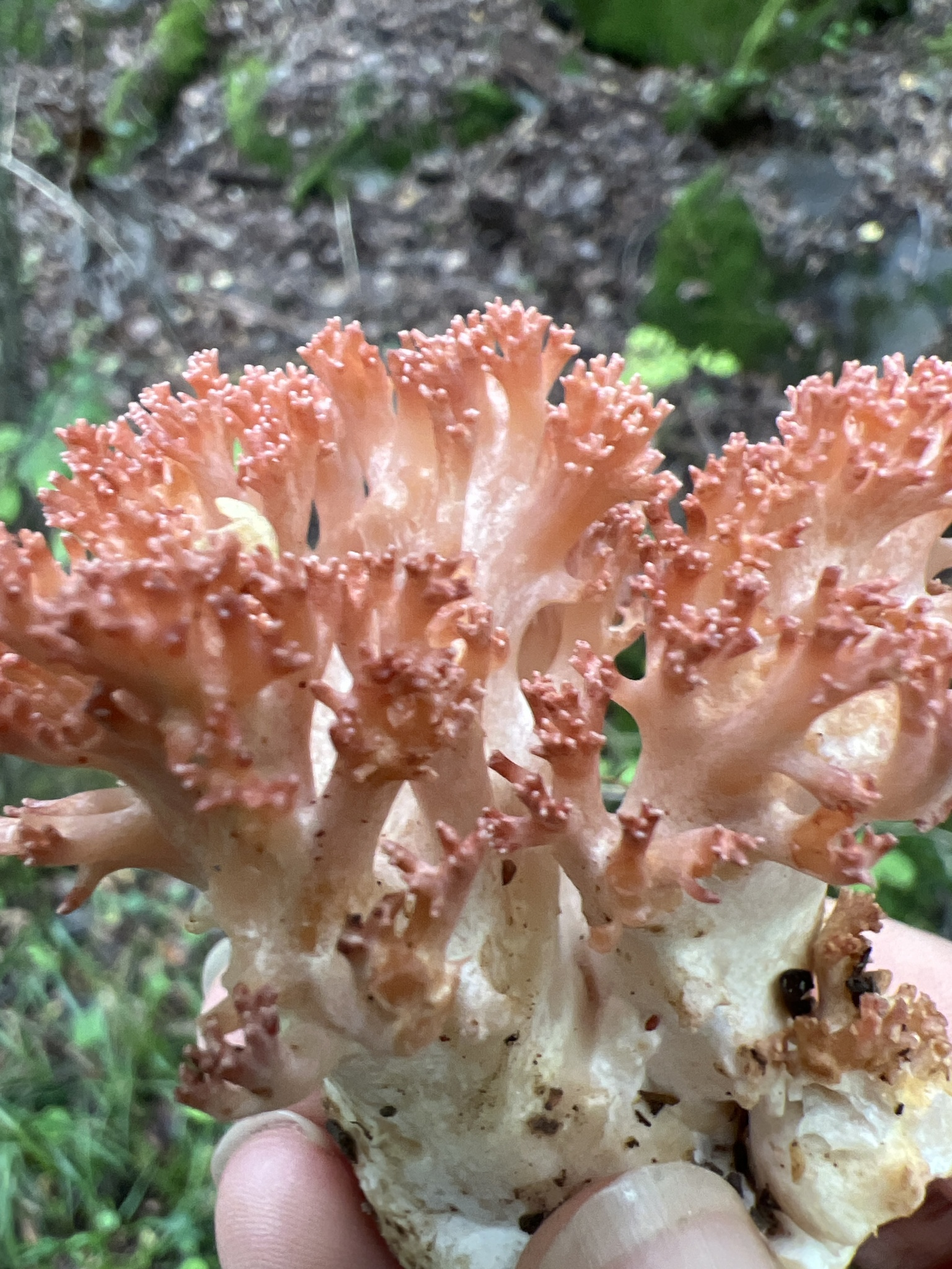coral: (0, 297, 951, 1268)
